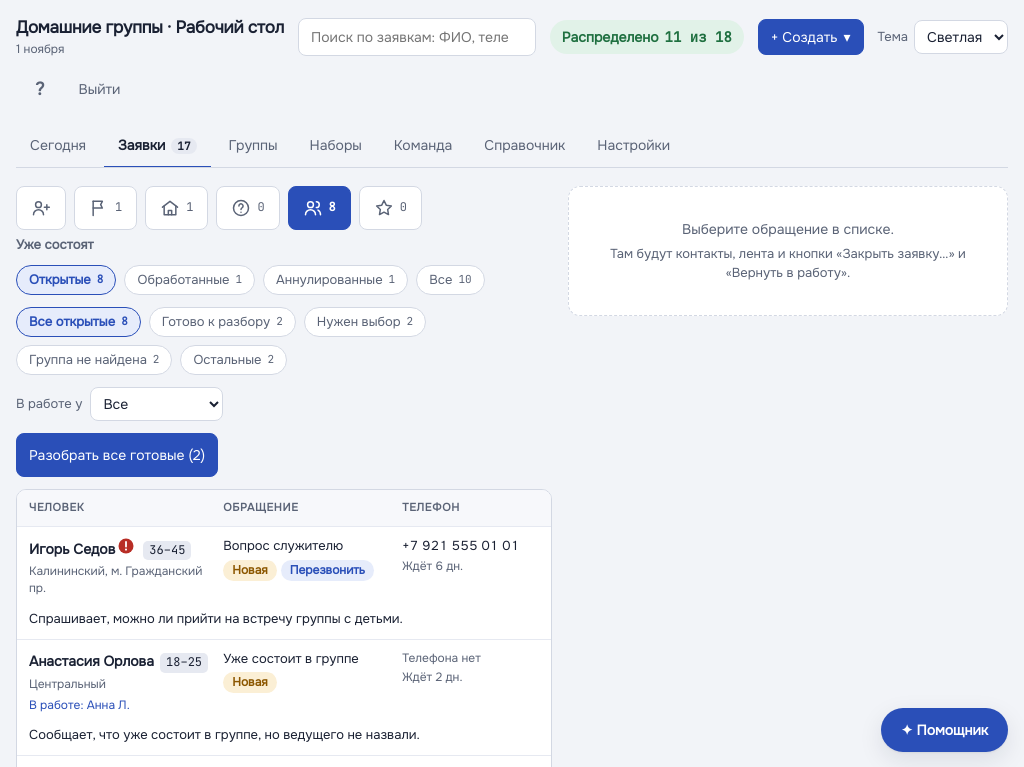
Scenario: «Другие обращения»: список и чипы › чип «Аннулированные» показывает только аннулированные и пишет ostate в адрес
Expected: the element named "Фильтр по состоянию обращения" is shown, [16,265,552,295]
Click the button "Аннулированные 1".
click(336, 280)  # box [263,265,408,295]
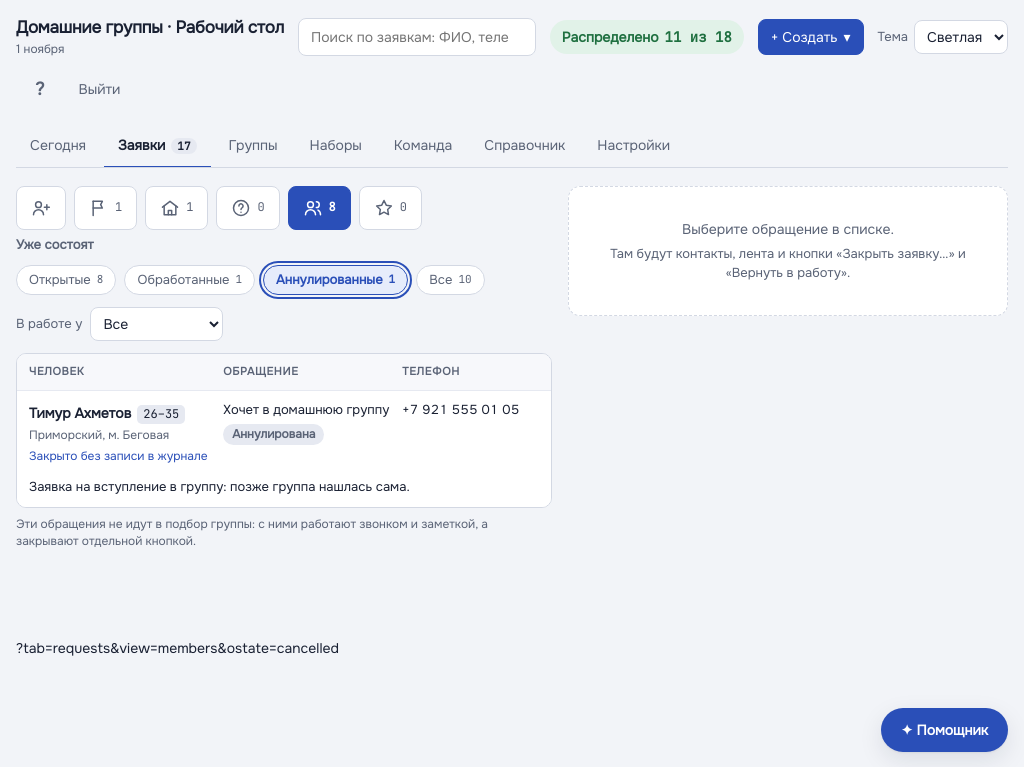
Result: the text "Аннулирована" is shown at [223,424,324,445]
